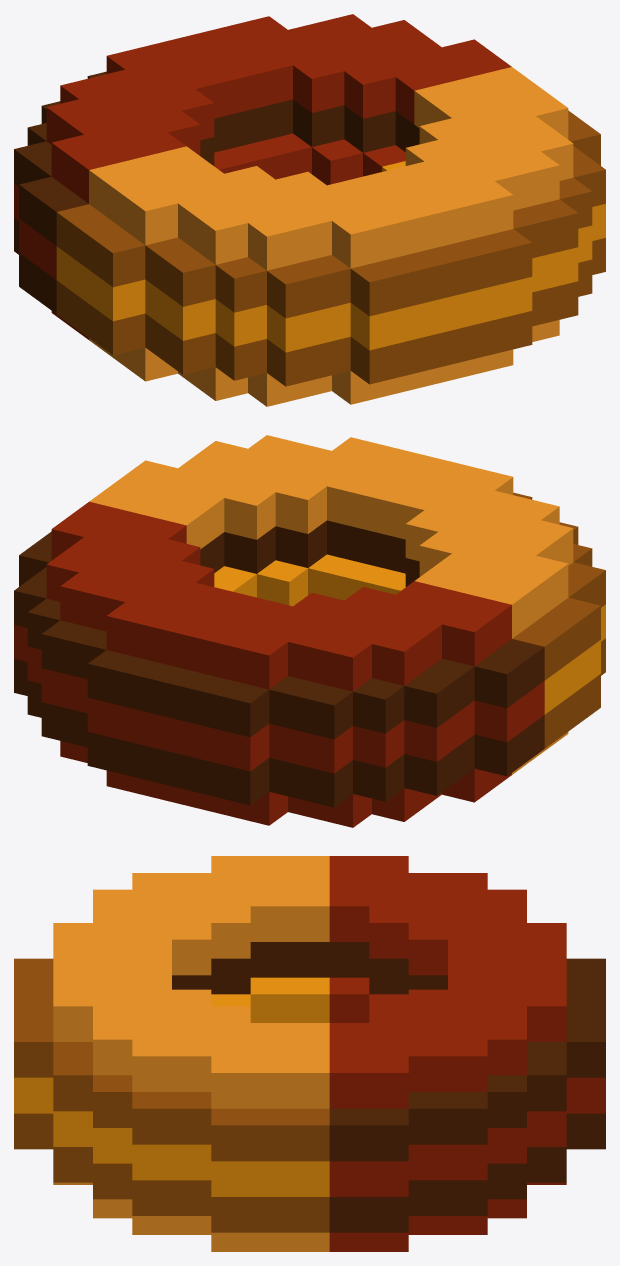
The model's file is doughnut.obj.
3 views of the same model, one above another, from view 1: azimuth 30°, elevation 25°; view 2: azimuth 150°, elevation 25°; view 3: azimuth 270°, elevation 25° (orthographic). The views are drawn at different scales.
Parts seen in each view (by area): view 1: Cube.586_Cube.16621; view 2: Cube.586_Cube.16621; view 3: Cube.586_Cube.16621.
Part boxes in pixels (x1,y1,x2,y2): Cube.586_Cube.16621: [14, 14, 605, 406]; Cube.586_Cube.16621: [14, 435, 605, 827]; Cube.586_Cube.16621: [14, 856, 605, 1251].
Size of the model in its own units: 0.9375 by 0.3125 by 0.9375.
